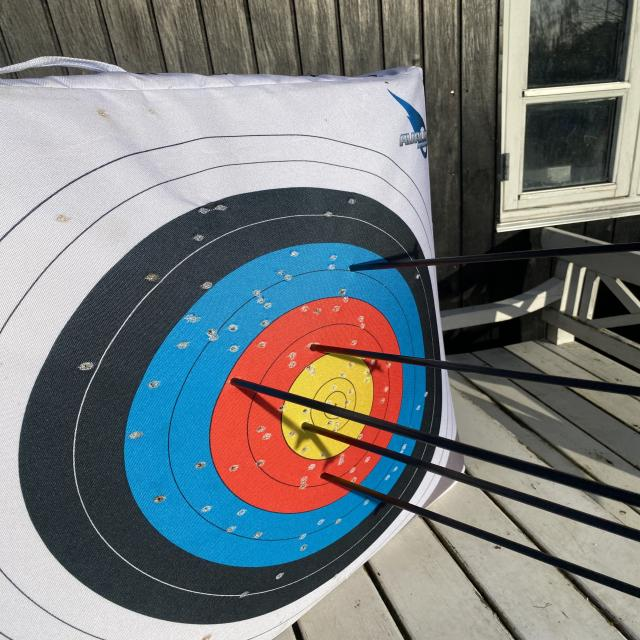Arrow_Blue: (340, 254, 368, 286)
Arrow_Red: (212, 364, 254, 394), (297, 337, 327, 366), (309, 465, 337, 491)
Arrow_Yellow: (292, 410, 319, 439)
